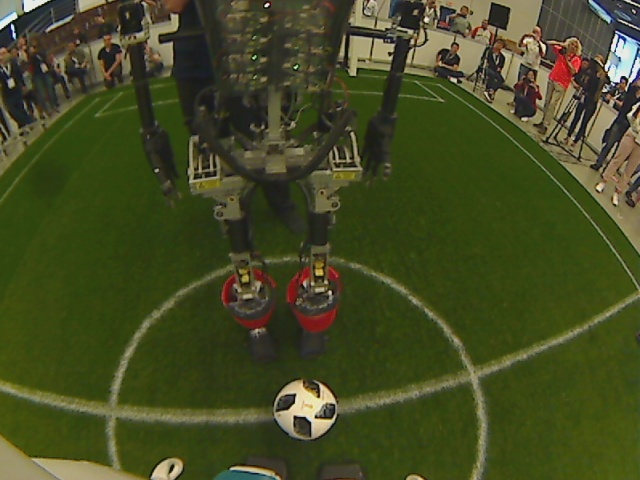ball: (272, 375, 341, 444)
